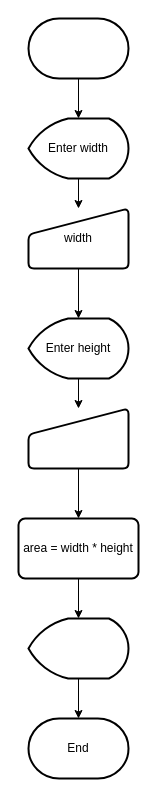
This 156x796 diagram has some shape labels left out. The shapes that lost their labels are listed below. From the top down, each one's box as (x1, y1, x2, y2) in pixels, then its label:
(27, 17, 129, 79): Start
(27, 407, 129, 469): height
(27, 617, 129, 679): Print area
